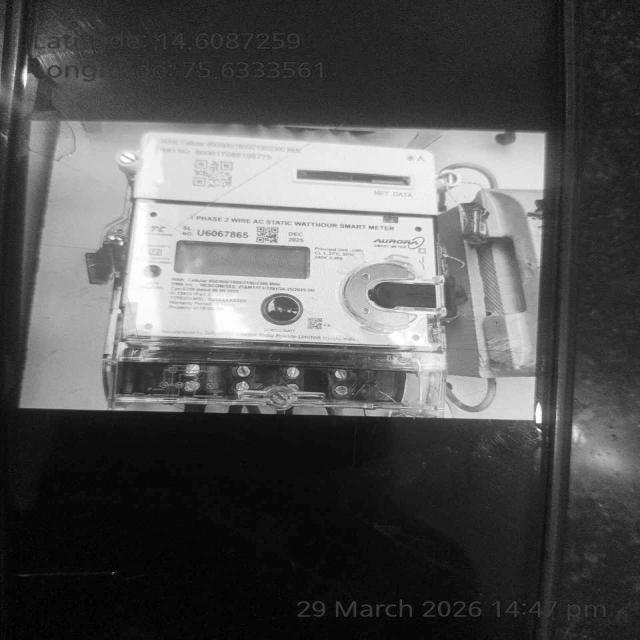meter: (133, 132, 446, 348)
